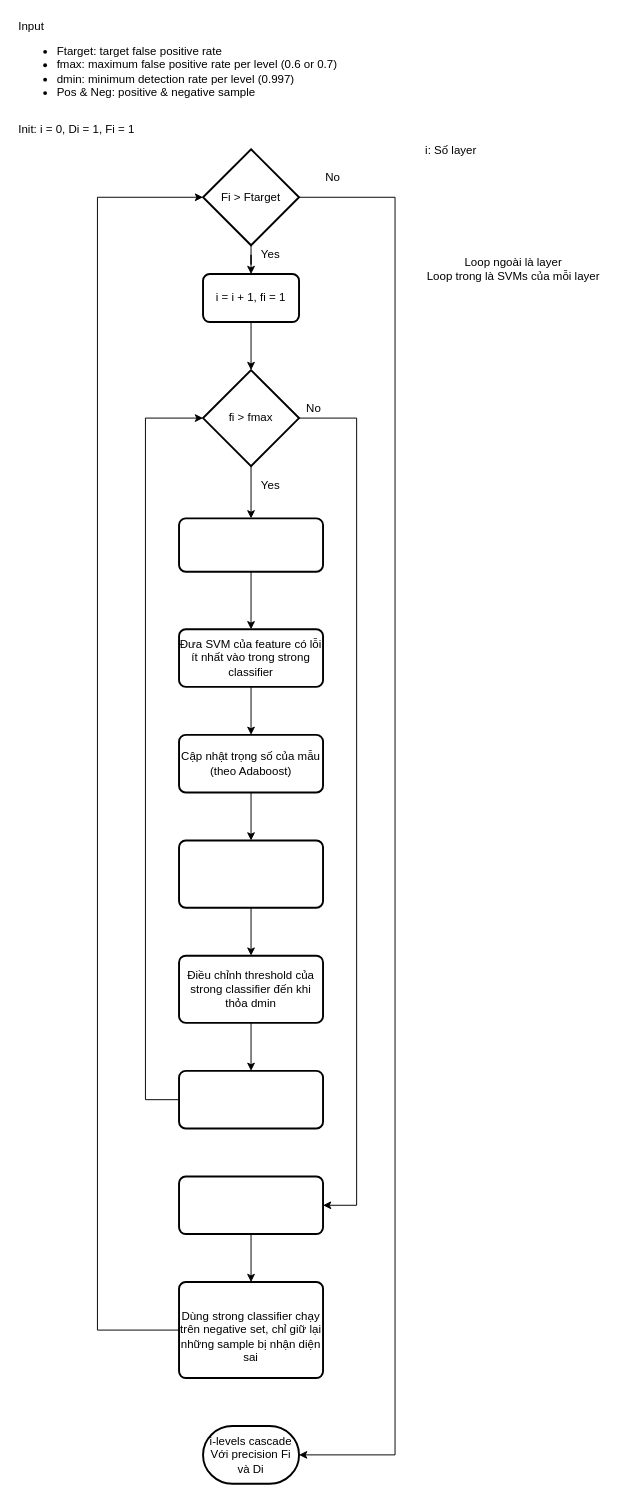
Image size: 625x1500. Some labels were removed from this diagram. The centre of each missing label's shape, as x and y in pixels:
Chạy lại strong classifier trên dataset: [251,873]
Chọn ngẫu nhiên 100 feature, train SVM bằng từng feature tương ứng: [251,544]
Fi+1 = Fi x fi Di+1 = Di x dmin: [251,1205]
Tính toán fi: [251,1099]
